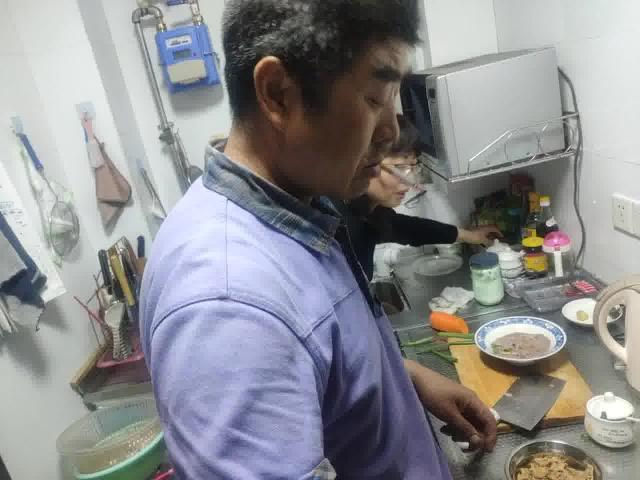Cigarette: (378, 161, 424, 193)
